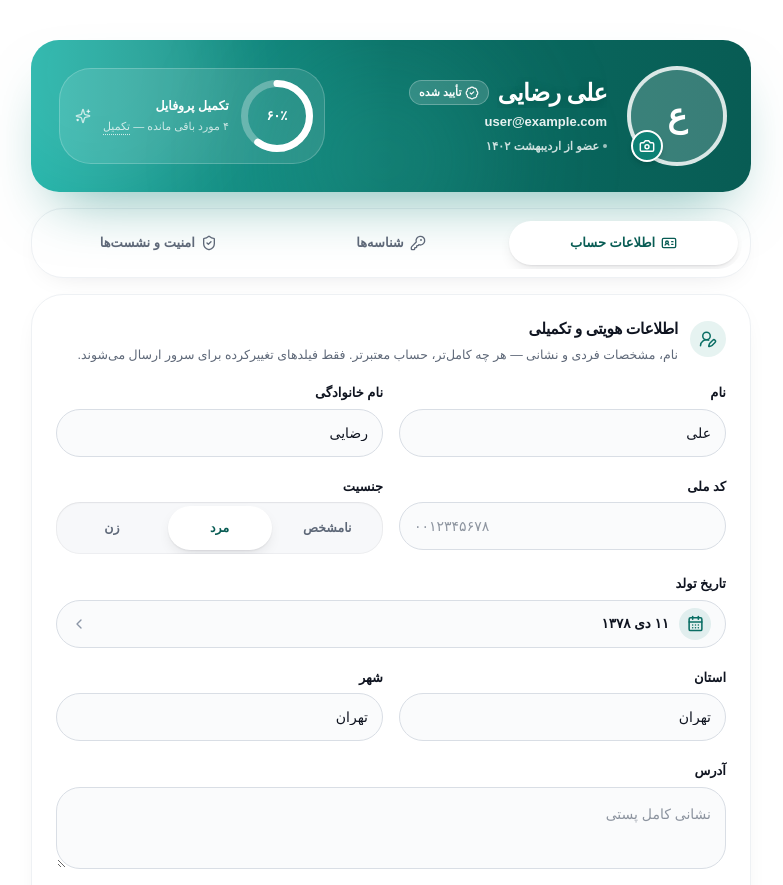
نشست‌ها — تشخیص و رفتارِ نشستِ فعلی › نشستِ جاری همیشه بالای لیست می‌نشیند حتی اگر سرور آن را دیرتر فرستاده باشد
Expected: the heading "علی رضایی" is shown, [498,77,607,108]
Click the tab "امنیت و نشست‌ها" at (158, 243), box [44,221,273,265]
(page scrolled)
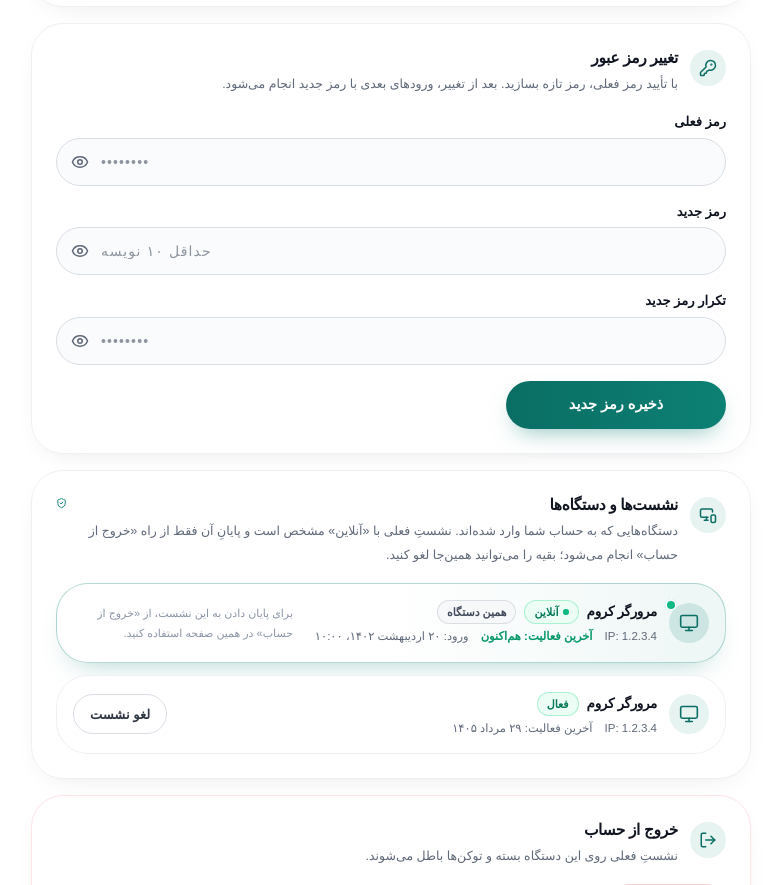
Expected: the text "آنلاین" is shown, [524,600,579,624]
Expected: the 1st list item shows "آنلاین", [534,606,559,618]
Expected: the button "لغو نشست" is shown, [73,694,167,734]
